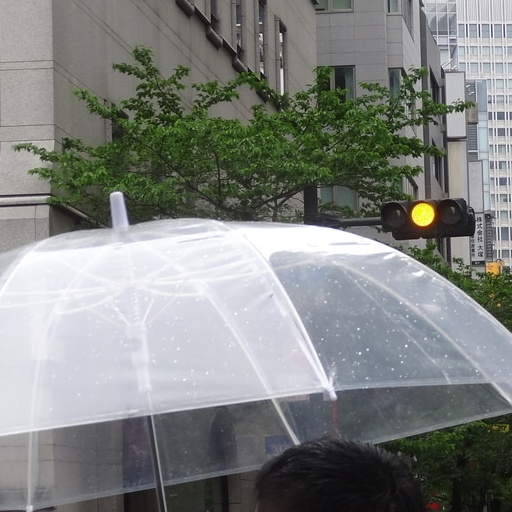Traffic_Signal_Yellow: (385, 196, 473, 241)
